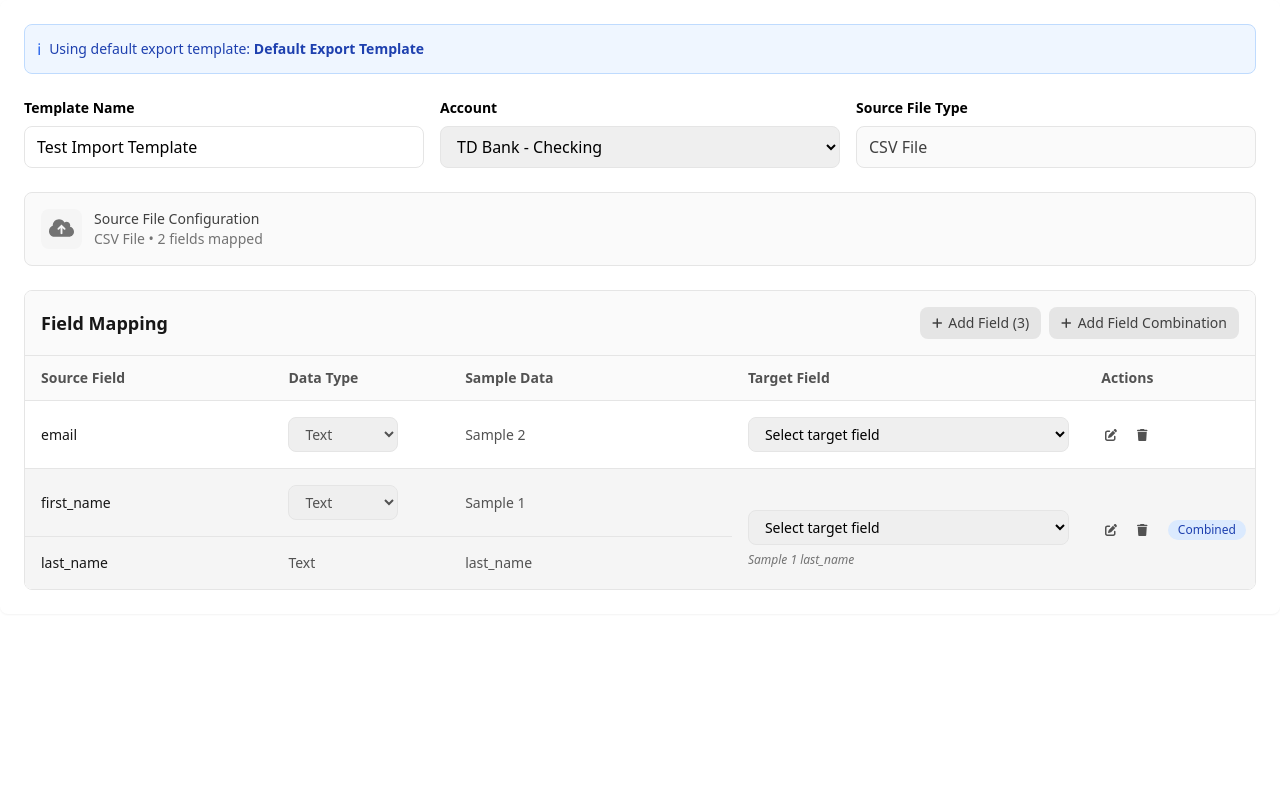
NewImportTemplateEditor › Partial Mapping (sourceFields persistence) › shows Add Field button with unmapped sourceFields available
The image size is (1280, 800).
Click the button titled "Add a field from original source file". click: click(980, 323)
box: x1=920 y1=307 x2=1041 y2=339
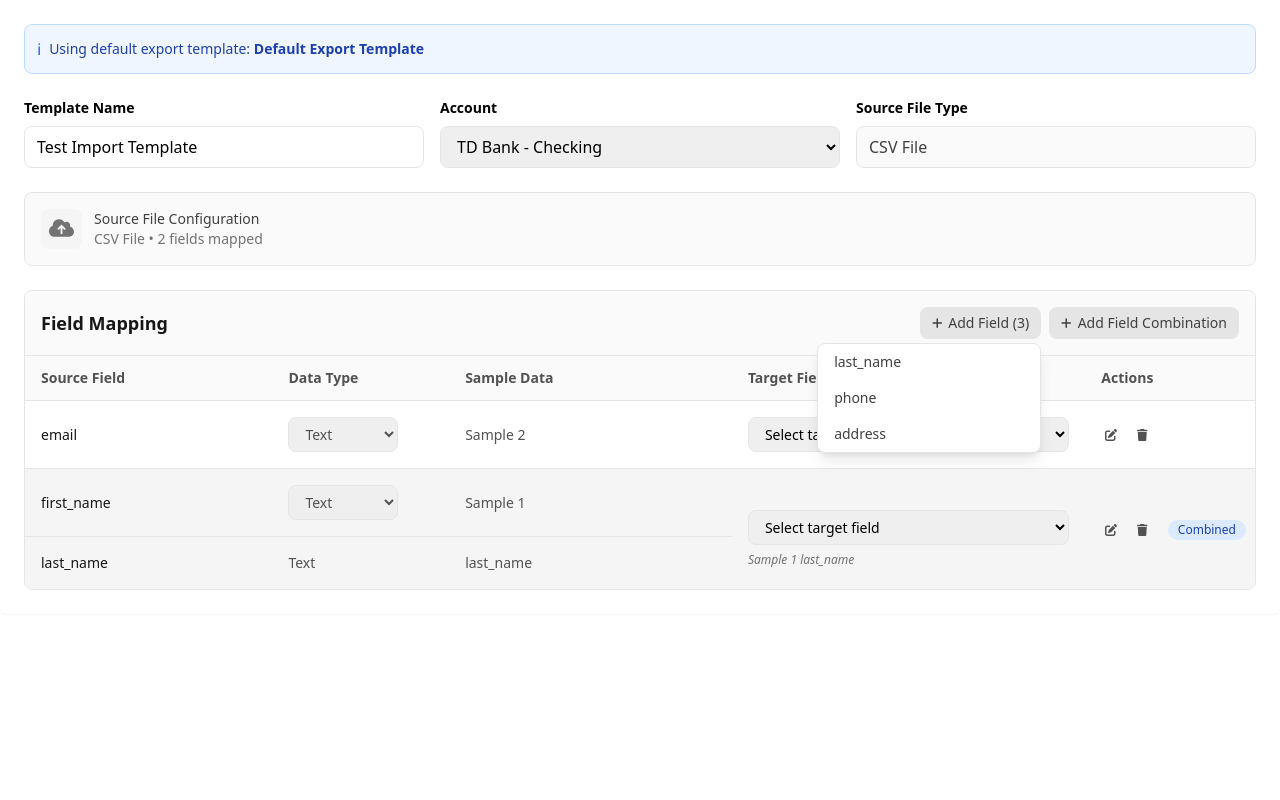
Expected: the button "phone" is shown, x1=818 y1=380 x2=1040 y2=416
Expected: the button "address" is shown, x1=818 y1=416 x2=1040 y2=452
